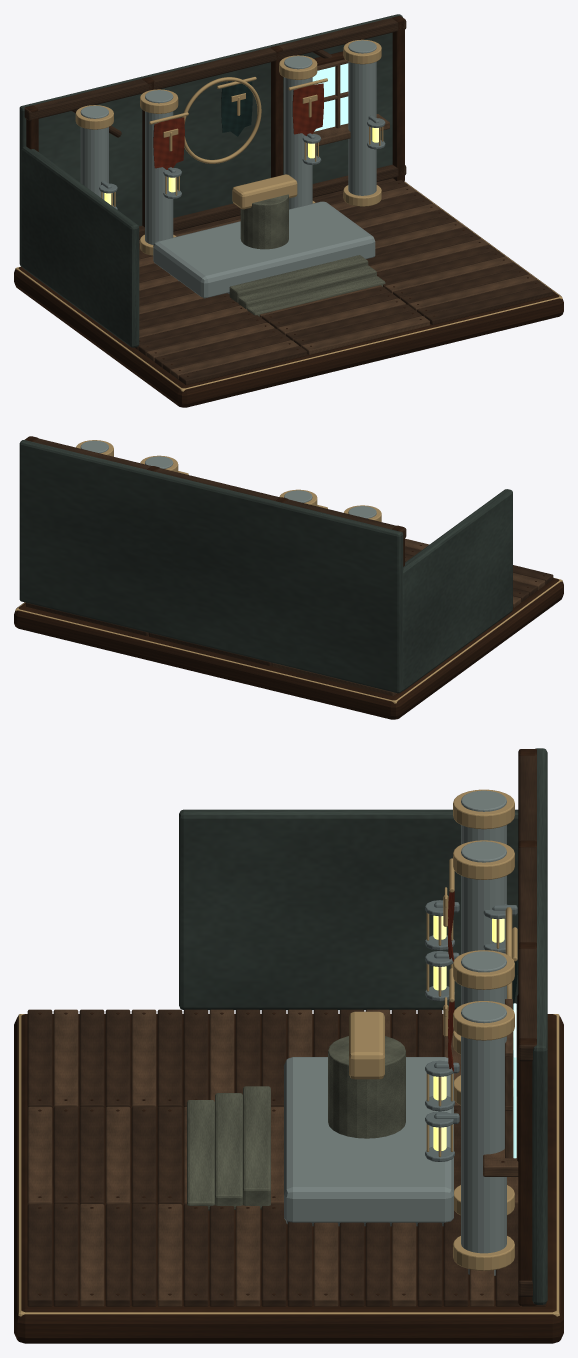
Rendered from room-legacy.glb.
3 views of the same model, one above another, from view 1: azimuth 30°, elevation 25°; view 2: azimuth 150°, elevation 25°; view 3: azimuth 270°, elevation 25° (orthographic). The views are drawn at different scales.
Visible parts, largest first — view 1: Part_Sage plaster.003, Part_Oak honey.006, Part_Charcoal slate.004, Part_Oak end grain.003, Part_Oak cut edge.001, Part_Aged brass.014, Part_Carved limestone, Part_Rival ochre.001, Part_Window sky.003, Part_House teal.007, Part_Blackened iron.015; view 2: Part_Sage plaster.003, Part_Oak end grain.003, Part_Oak honey.006, Part_Aged brass.014, Part_Charcoal slate.004, Part_Oak cut edge.001; view 3: Part_Oak honey.006, Part_Sage plaster.003, Part_Oak end grain.003, Part_Charcoal slate.004, Part_Oak cut edge.001, Part_Aged brass.014, Part_Carved limestone, Part_Blackened iron.015, Part_Lantern glass.001.
Part boxes in pixels (left/top/right/bottom): Part_Sage plaster.003: left=19, top=14, right=402, bottom=347; Part_Oak honey.006: left=24, top=15, right=553, bottom=384; Part_Charcoal slate.004: left=80, top=40, right=376, bottom=298; Part_Oak end grain.003: left=14, top=16, right=563, bottom=407; Part_Oak cut edge.001: left=139, top=59, right=536, bottom=379; Part_Aged brass.014: left=15, top=39, right=562, bottom=391; Part_Carved limestone: left=229, top=194, right=385, bottom=316; Part_Rival ochre.001: left=153, top=83, right=323, bottom=169; Part_Window sky.003: left=312, top=63, right=348, bottom=131; Part_House teal.007: left=221, top=82, right=252, bottom=136; Part_Blackened iron.015: left=99, top=115, right=385, bottom=209; Part_Sage plaster.003: left=19, top=440, right=512, bottom=693; Part_Oak end grain.003: left=14, top=436, right=563, bottom=719; Part_Oak honey.006: left=24, top=436, right=553, bottom=665; Part_Aged brass.014: left=15, top=440, right=562, bottom=703; Part_Charcoal slate.004: left=80, top=440, right=376, bottom=518; Part_Oak cut edge.001: left=272, top=538, right=545, bottom=695; Part_Oak honey.006: left=27, top=749, right=546, bottom=1306; Part_Sage plaster.003: left=179, top=748, right=547, bottom=1304; Part_Oak end grain.003: left=14, top=749, right=563, bottom=1343; Part_Charcoal slate.004: left=284, top=790, right=506, bottom=1275; Part_Oak cut edge.001: left=27, top=999, right=518, bottom=1306; Part_Aged brass.014: left=18, top=789, right=559, bottom=1316; Part_Carved limestone: left=187, top=1036, right=405, bottom=1210; Part_Blackened iron.015: left=425, top=900, right=517, bottom=1161; Part_Lantern glass.001: left=433, top=915, right=504, bottom=1150.
Bounding box in the file's own units: 7.2 × 3.31 × 5.5.
Materials: 12 (7 with a texture image).
